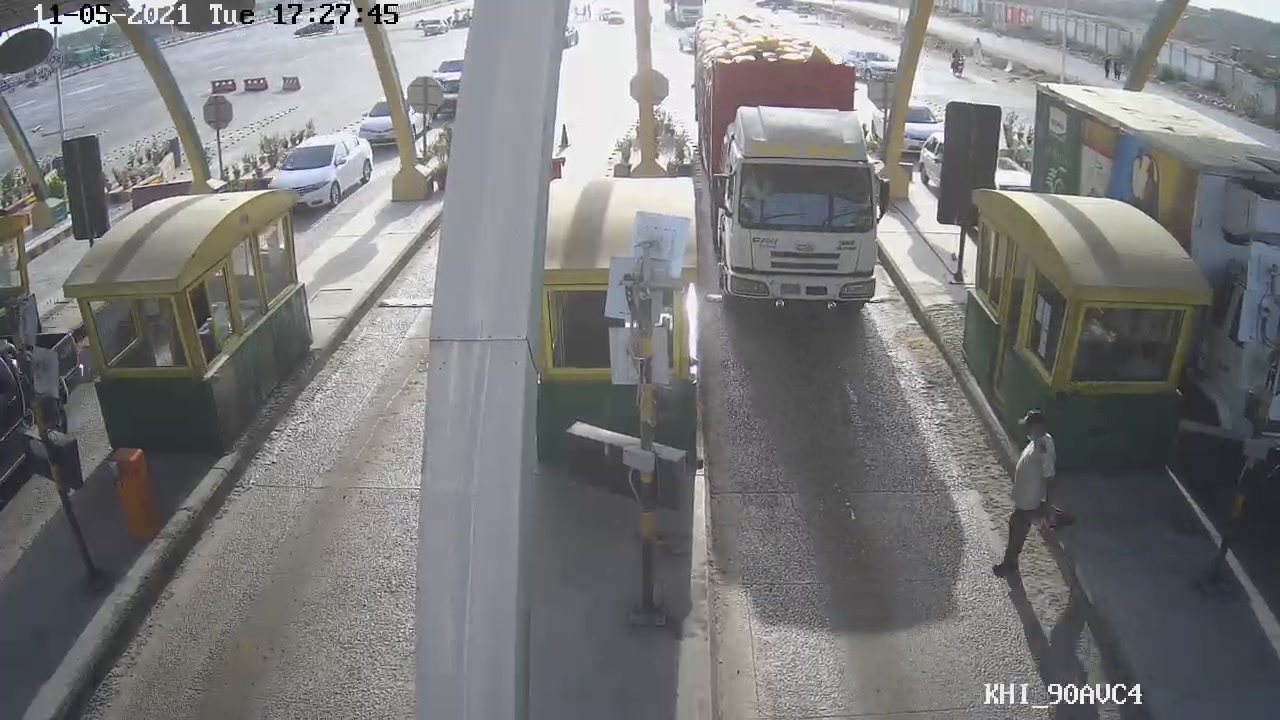F6: (694, 25, 898, 330)
